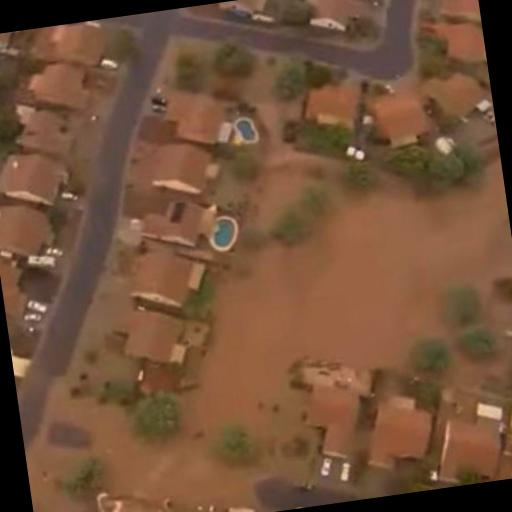flood: (74, 147, 512, 512)
house: (288, 366, 378, 468), (434, 398, 510, 488), (354, 386, 436, 468), (122, 244, 204, 317), (116, 303, 188, 371), (130, 194, 208, 252), (366, 82, 434, 146), (0, 149, 72, 207), (166, 86, 230, 150), (430, 64, 490, 125), (148, 144, 214, 198), (0, 196, 54, 260), (23, 60, 91, 110), (298, 84, 358, 136), (50, 19, 110, 70), (438, 16, 486, 63), (307, 0, 353, 37), (495, 416, 512, 479), (444, 0, 482, 28), (202, 501, 256, 512)
